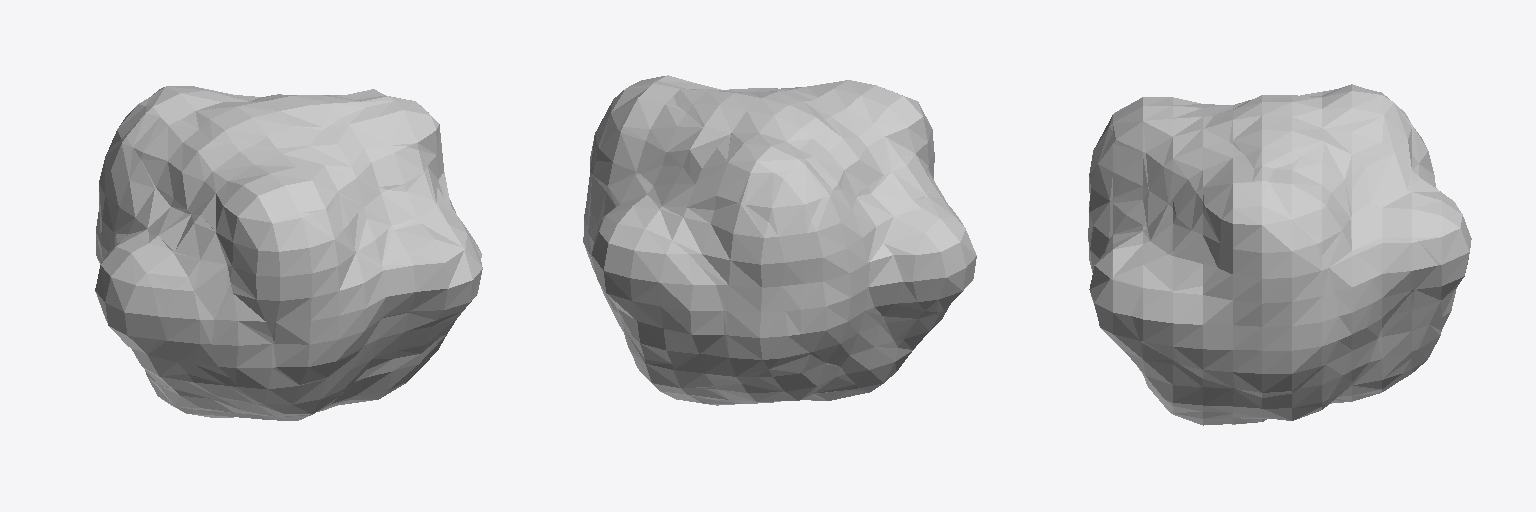
File: 1h47_1_cms.obj
The picture shows the model from 3 angles: view 1: azimuth 30°, elevation 25°; view 2: azimuth 150°, elevation 25°; view 3: azimuth 270°, elevation 25°; orthographic projection.
Size of the model in its own units: 69.17 by 56.09 by 65.8.